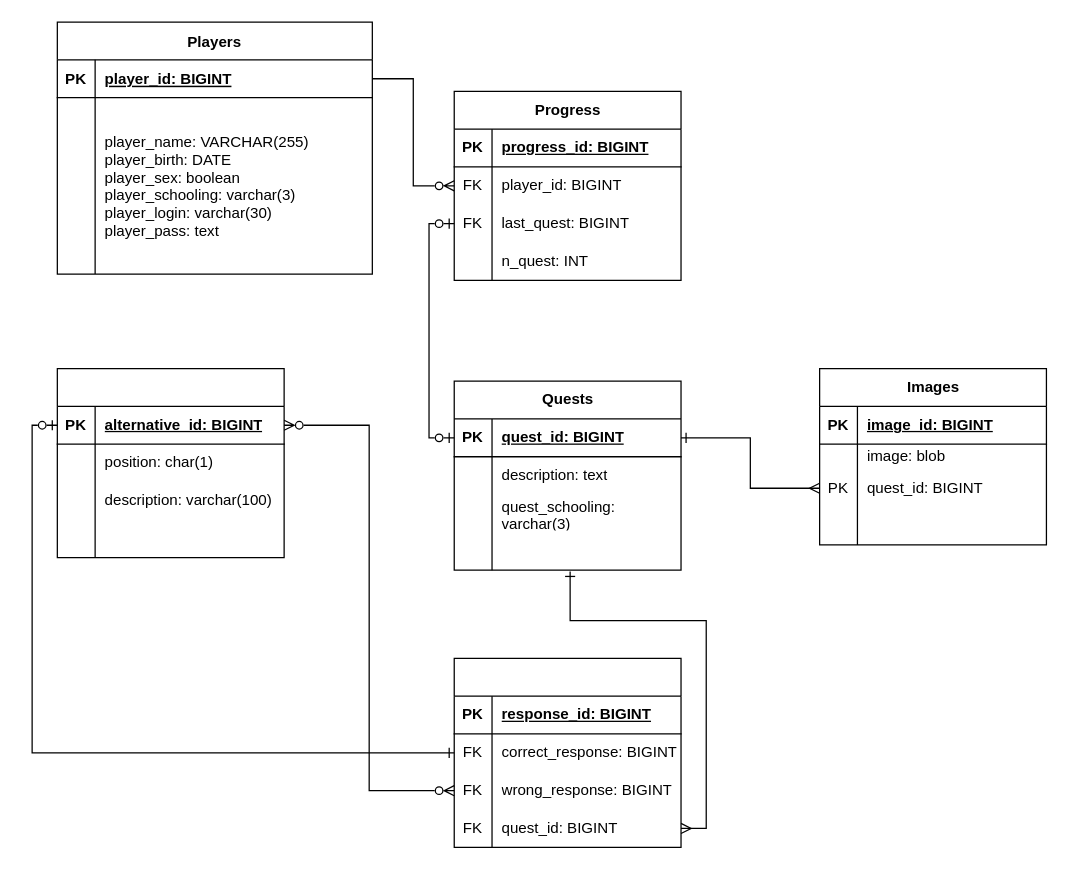
This 1068x869 diagram has some shape labels left out. Here are the shapes that lost their labels. From the top down, the box of each, then its label:
(56, 367, 284, 558): Alternatives
(453, 657, 681, 847): Responses
